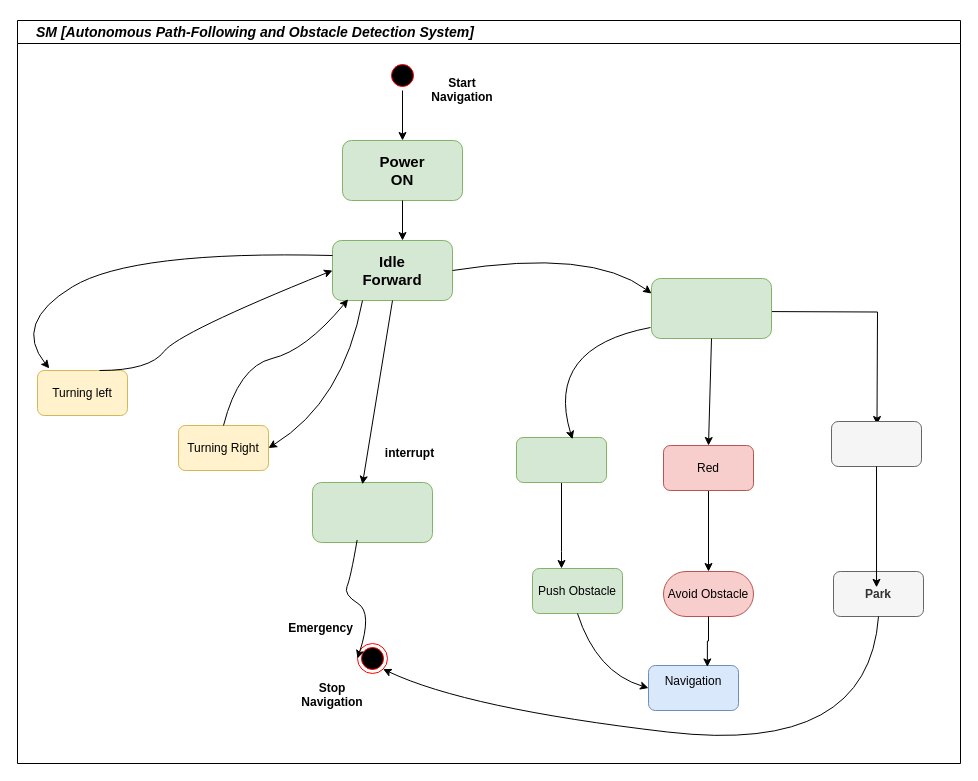
Some shapes in this 978 by 781 pixel diagram are drawn without their labels. The shapes that lost their labels are listed below. From the top down, each one's centre as x and y in pixels, then its label:
(x=711, y=308): Obstacle Detected
(x=561, y=459): Green
(x=876, y=443): Colour not identified
(x=372, y=512): Power Off
